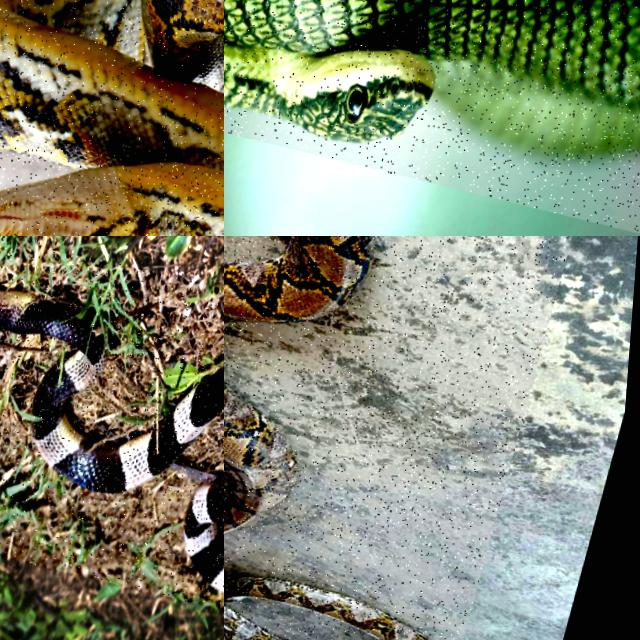Bungarus candidus: (0, 289, 223, 492)
Chrysopelea ornata: (224, 0, 639, 156)
Malayopython reticulatus: (0, 0, 223, 235), (224, 573, 432, 639)
